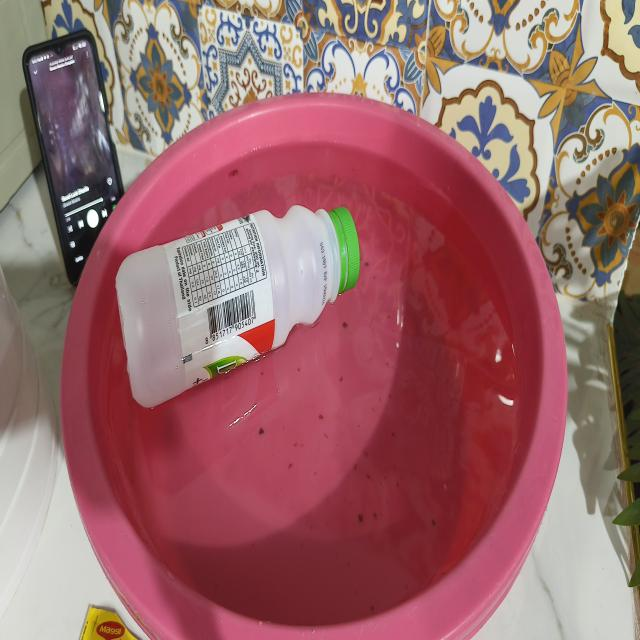Plastic Bottle: (87, 164, 396, 436)
